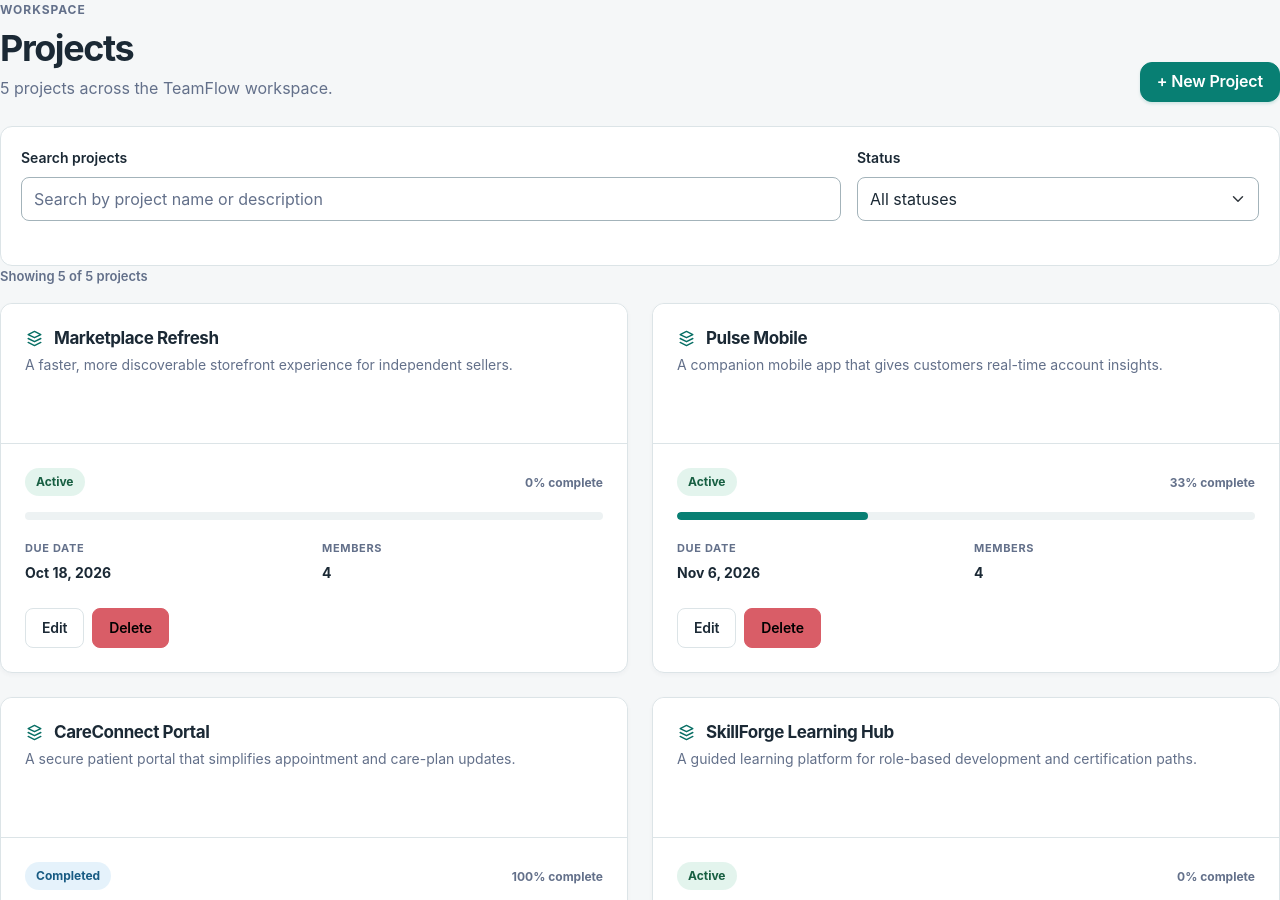
it: project workflows › renders the seeded projects and creates a new project
This screenshot has width=1280, height=900.
Expected: the link "Marketplace Refresh" is shown, [25,332,219,352]
Expected: the link "Pulse Mobile" is shown, [677,332,807,352]
Click the button "+ New Project".
click(1210, 82)  # box [1140,62,1279,102]
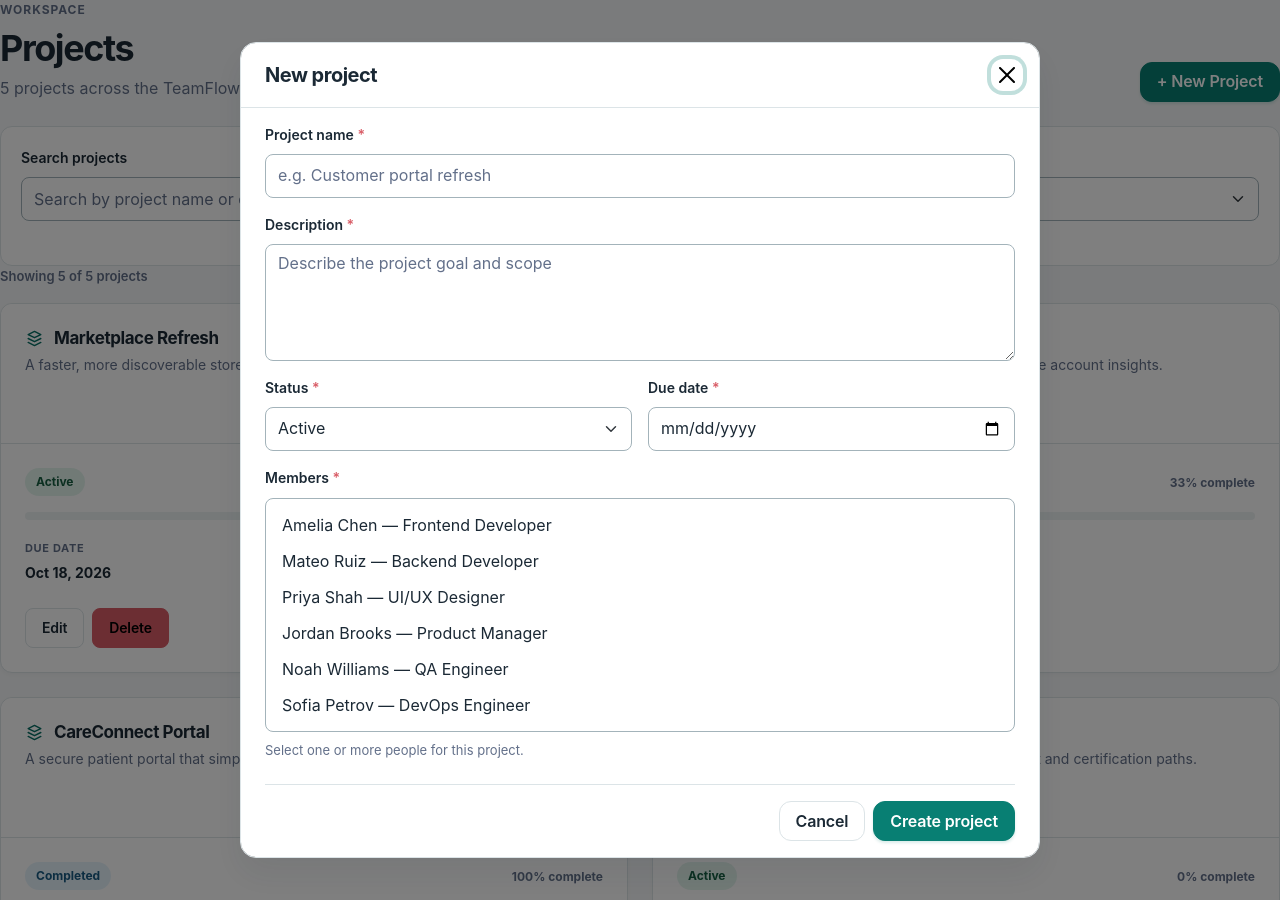
Type "Gamma Project" into the field labelled "Project name *".
click(640, 176); type("Gamma Project")  # box [265,154,1015,198]
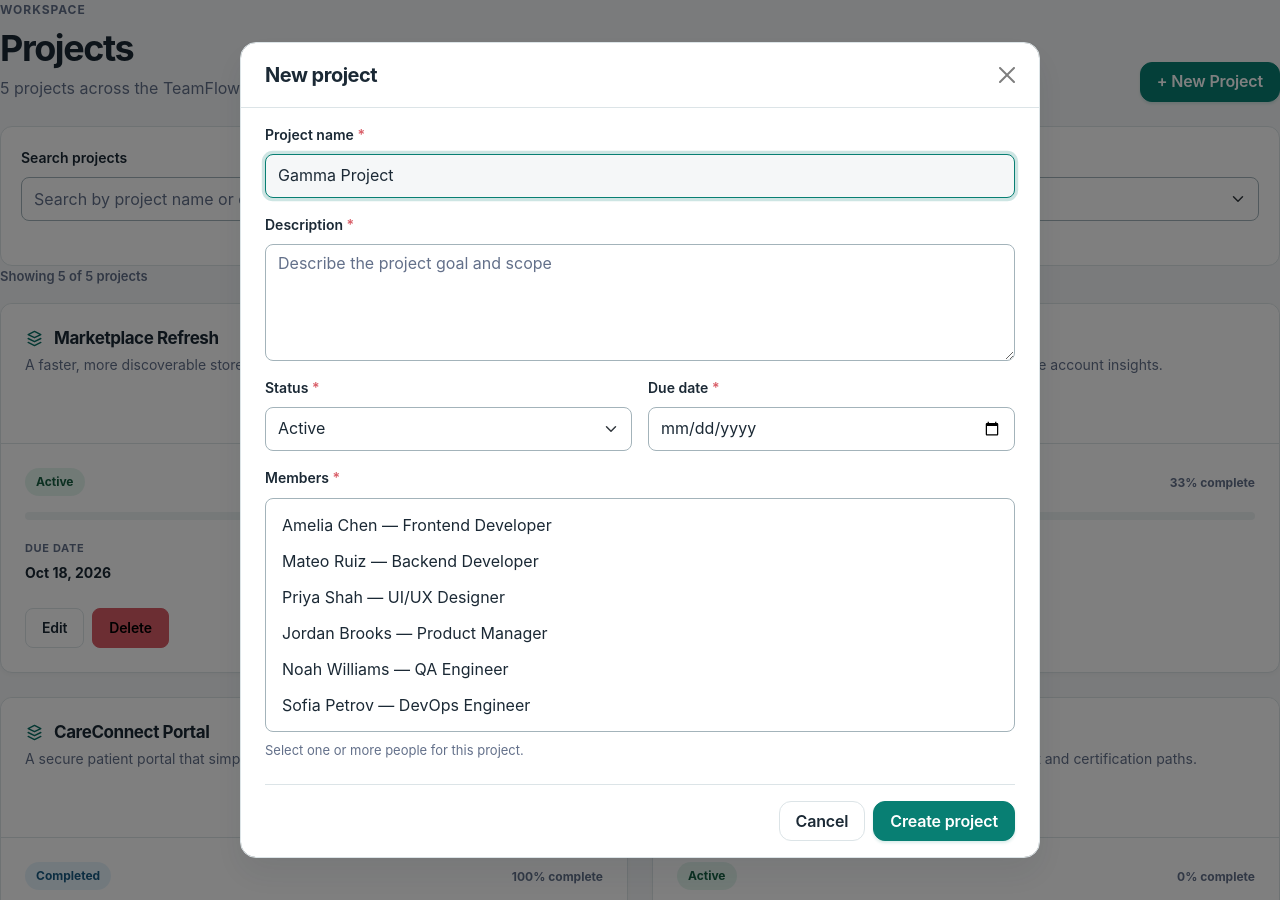
Type "A new project for workflow testing." into the text box labelled "Description *".
click(640, 303); type("A new project for workflow testing.")  # box [265,244,1015,361]
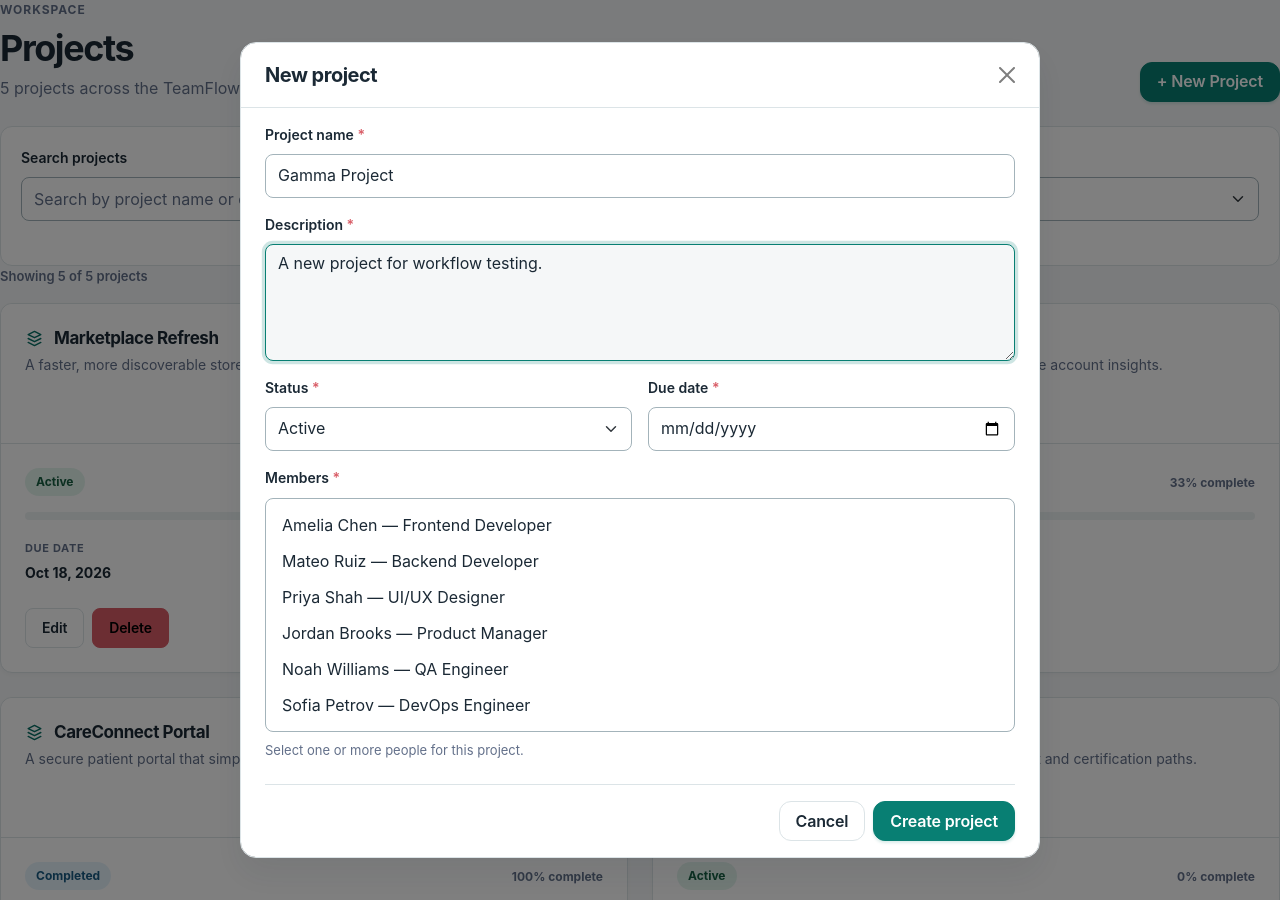
Type "2027-01-15" into the date field labelled "Due date *".
click(832, 429); type("2027-01-15")  # box [648,407,1015,451]
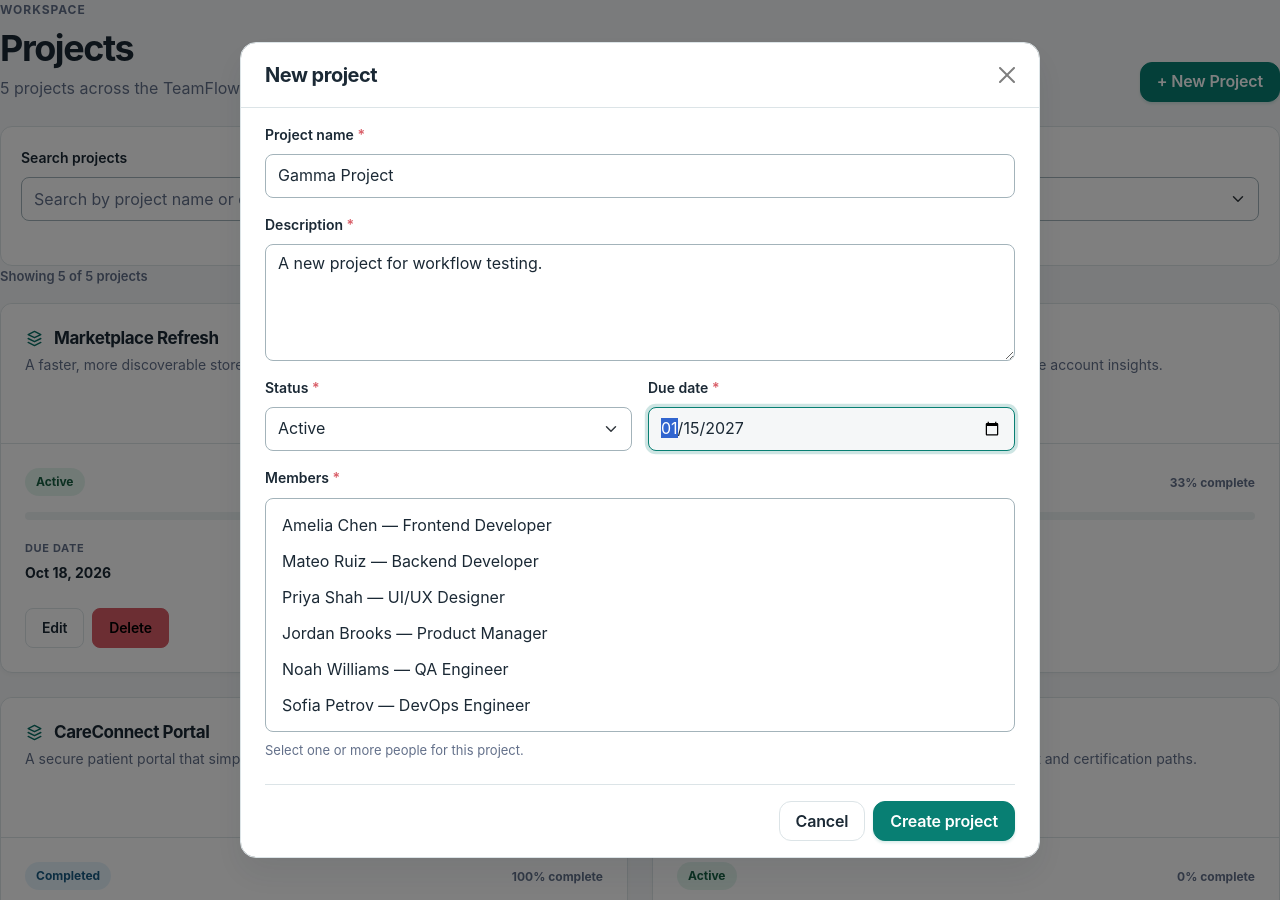
Select "Amelia Chen — Frontend Developer" in the dropdown labelled "Members *" at (640,615), box [265,498,1015,732]
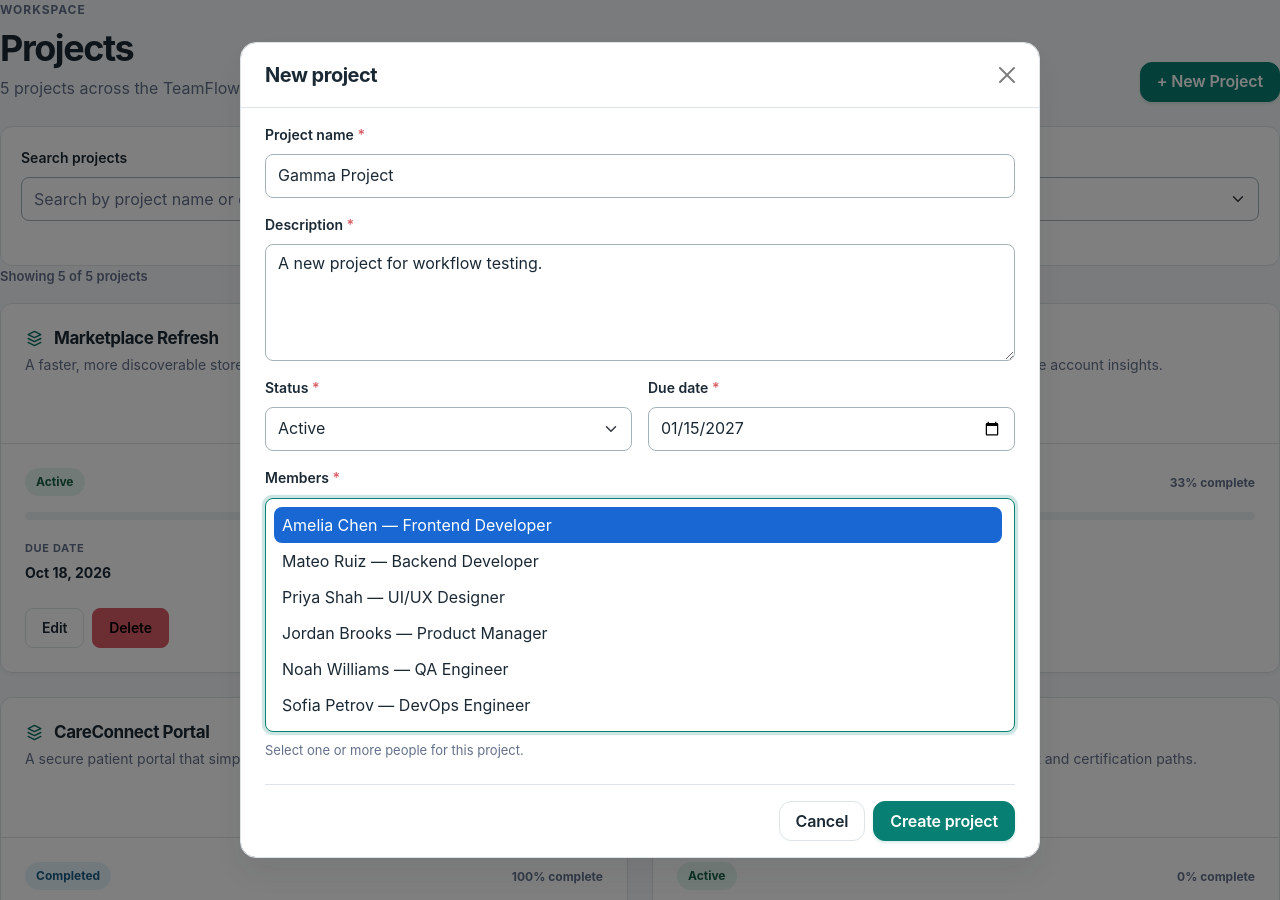
Click the button "Create project".
click(944, 821)  # box [873,801,1015,841]
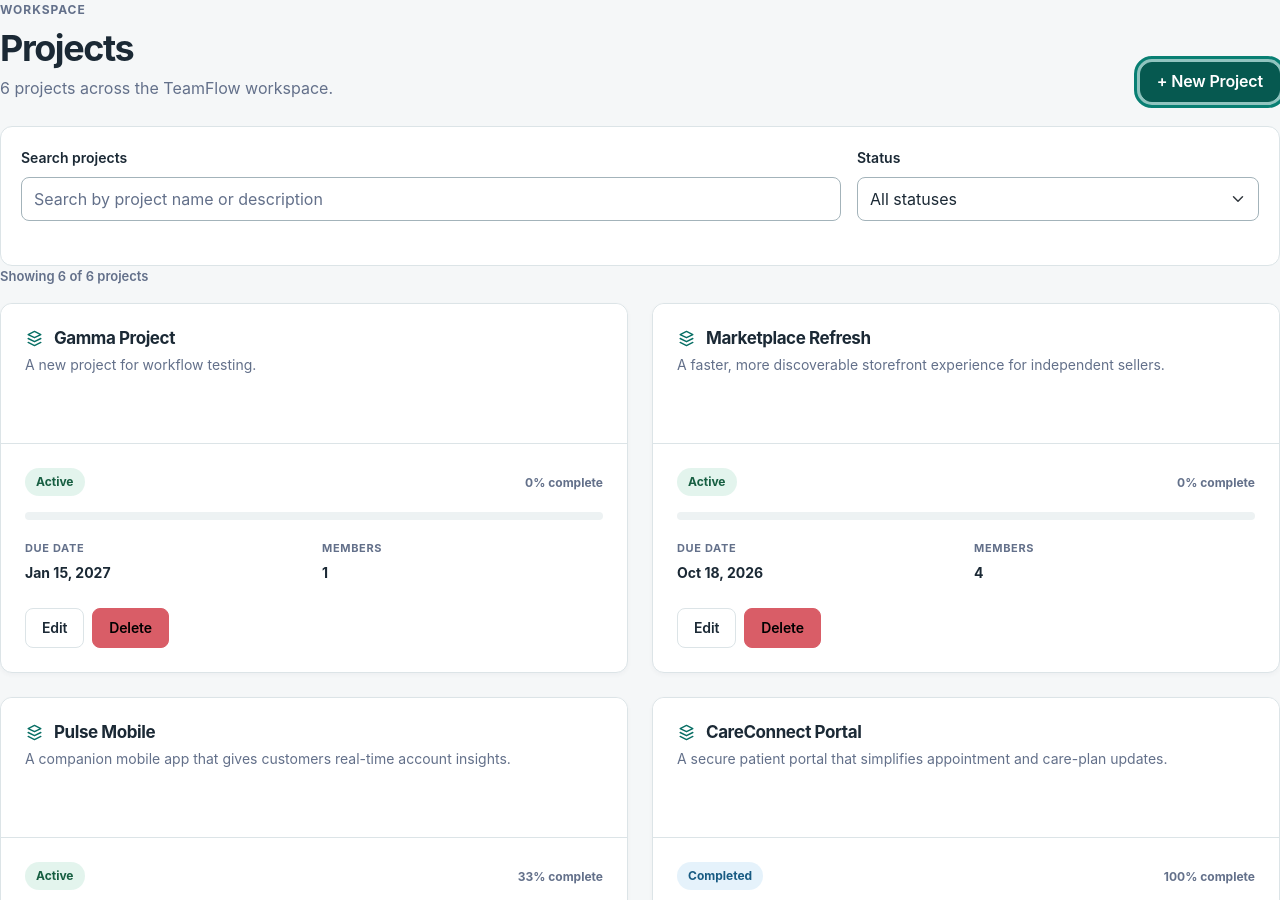
Result: the link "Gamma Project" is shown at [25,332,175,352]
